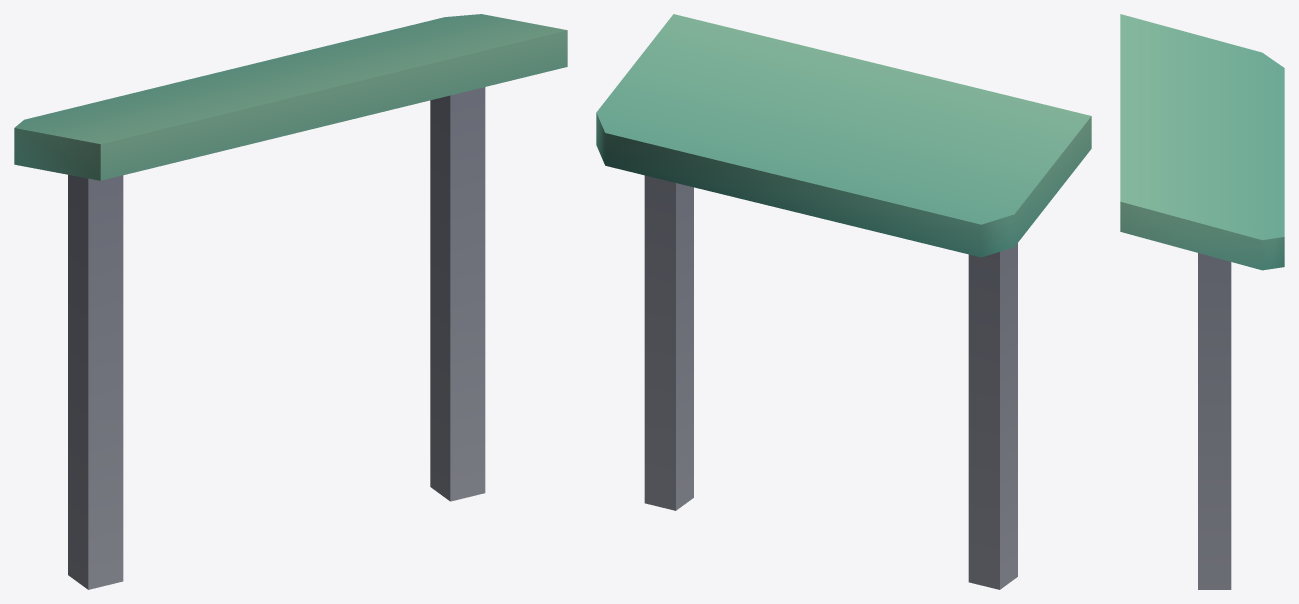
The model's file is detail-awning.glb.
3 views of the same model, side by side, from view 1: azimuth 30°, elevation 25°; view 2: azimuth 150°, elevation 25°; view 3: azimuth 270°, elevation 25° (orthographic). The views are drawn at different scales.
Visible parts, largest first — view 1: detail-awning; view 2: detail-awning; view 3: detail-awning.
Boxes of the visible parts, x1=… form: detail-awning: x1=14, y1=14, x2=567, y2=589; detail-awning: x1=596, y1=14, x2=1091, y2=589; detail-awning: x1=1120, y1=14, x2=1284, y2=589.
Bounding box in the file's own units: 0.4 × 0.4 × 0.1479.
